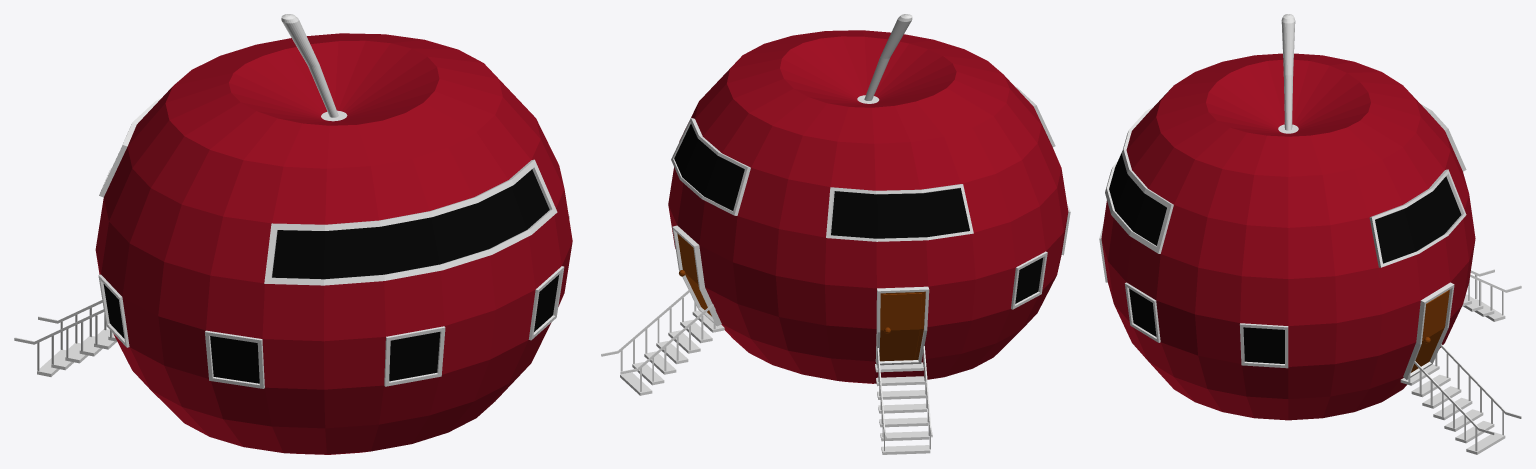
File: houseappleRED.fbx
The picture shows the model from 3 angles, left to right: view 1: azimuth 30°, elevation 25°; view 2: azimuth 150°, elevation 25°; view 3: azimuth 270°, elevation 25°; orthographic projection. The views are drawn at different scales.
Visible parts, largest first — view 1: houseappleRED; view 2: houseappleRED; view 3: houseappleRED.
Boxes of the visible parts, bbox=[...] form: houseappleRED: bbox=[14, 14, 572, 454]; houseappleRED: bbox=[601, 14, 1070, 454]; houseappleRED: bbox=[1099, 14, 1521, 454].
Size of the model in its own units: 490 by 444 by 493.
